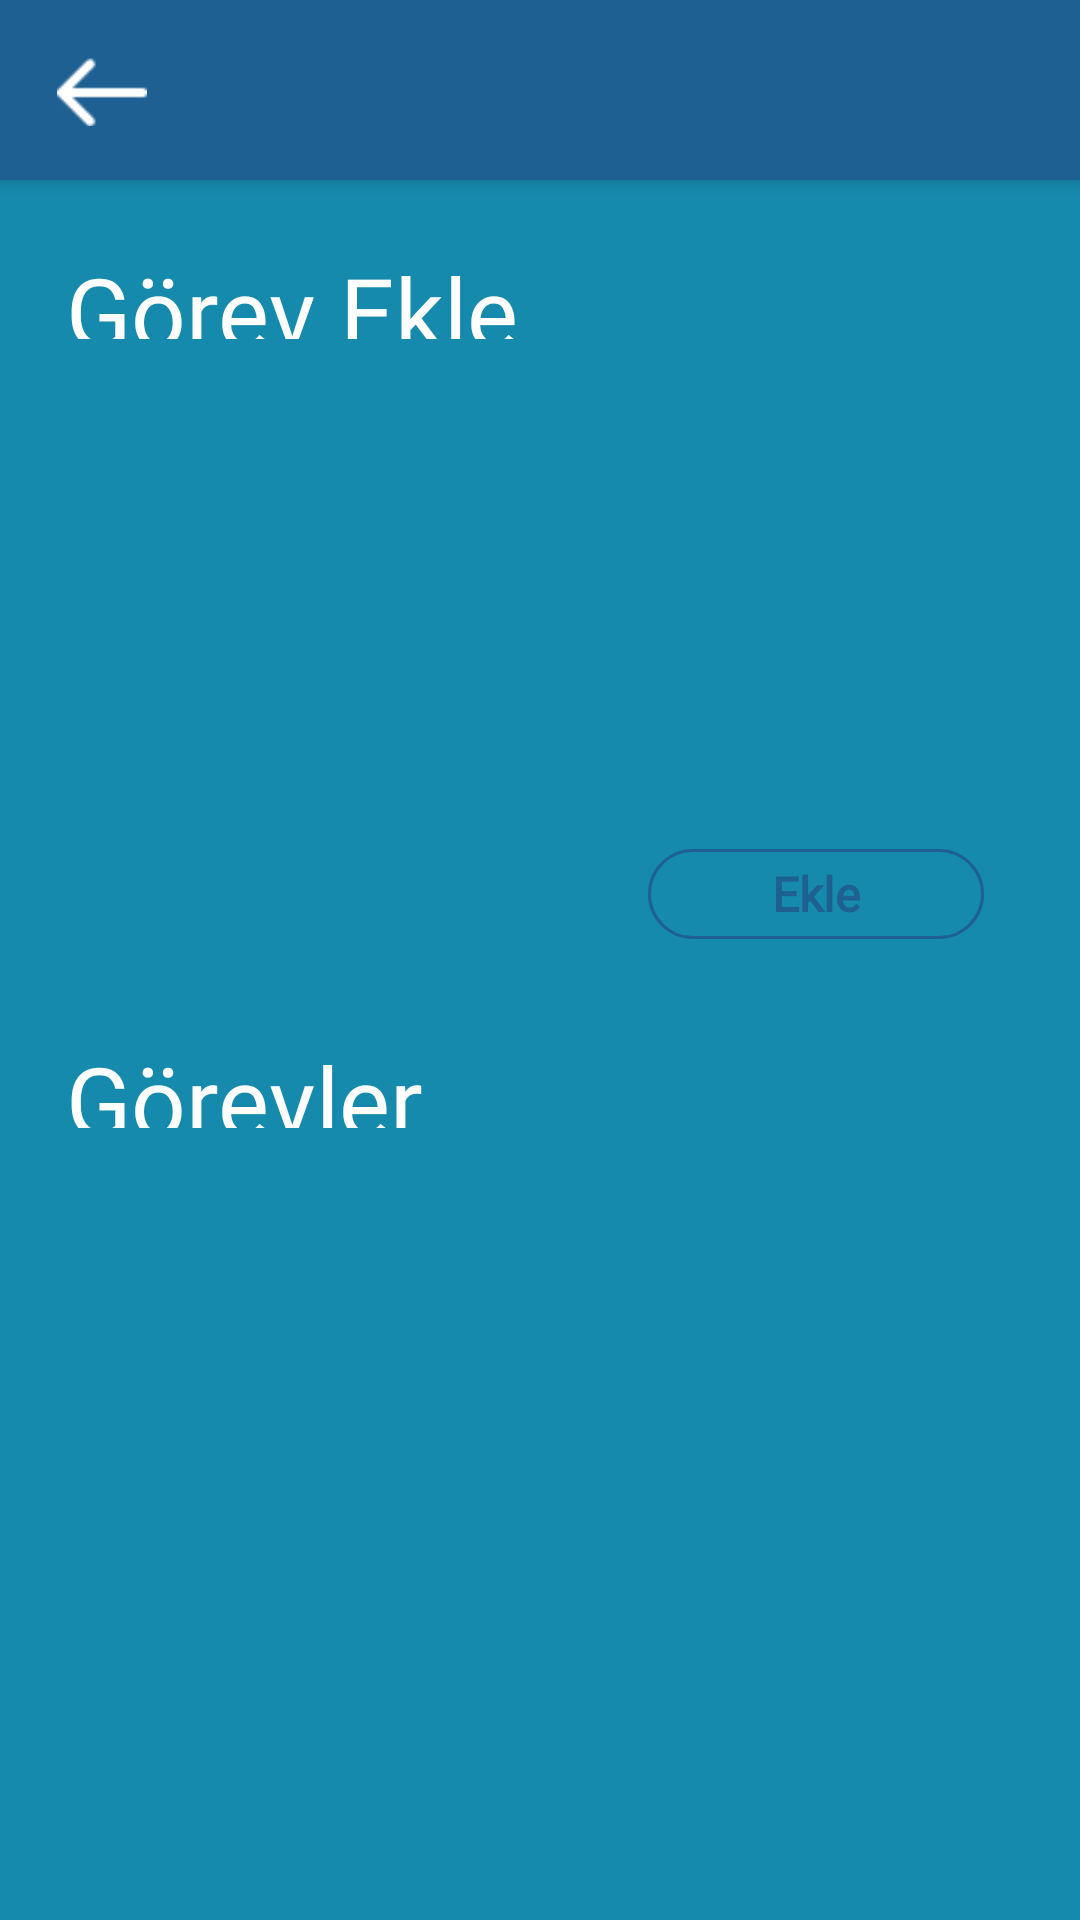

Point at icon controls on the screen. Image size 1080 × 1920, points as (x=x, y=y).
back: (x=102, y=92)
